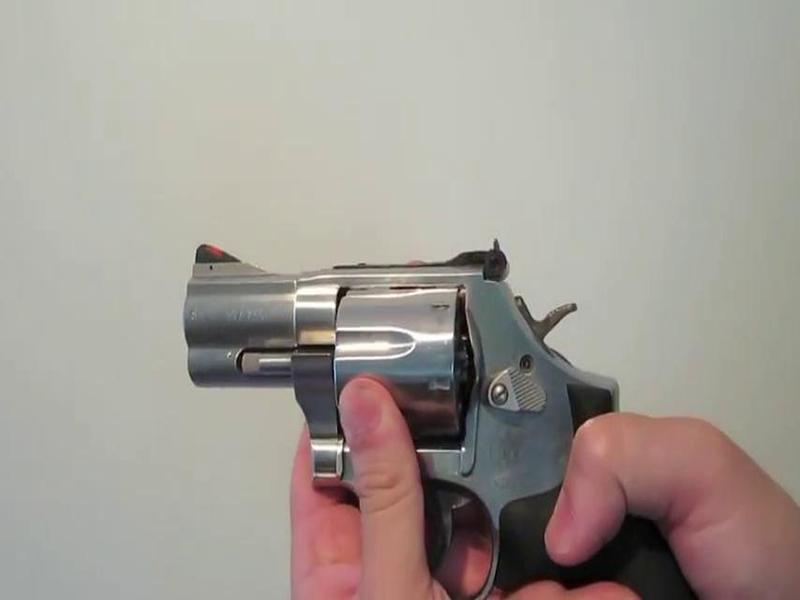Revolver: (157, 208, 704, 600)
